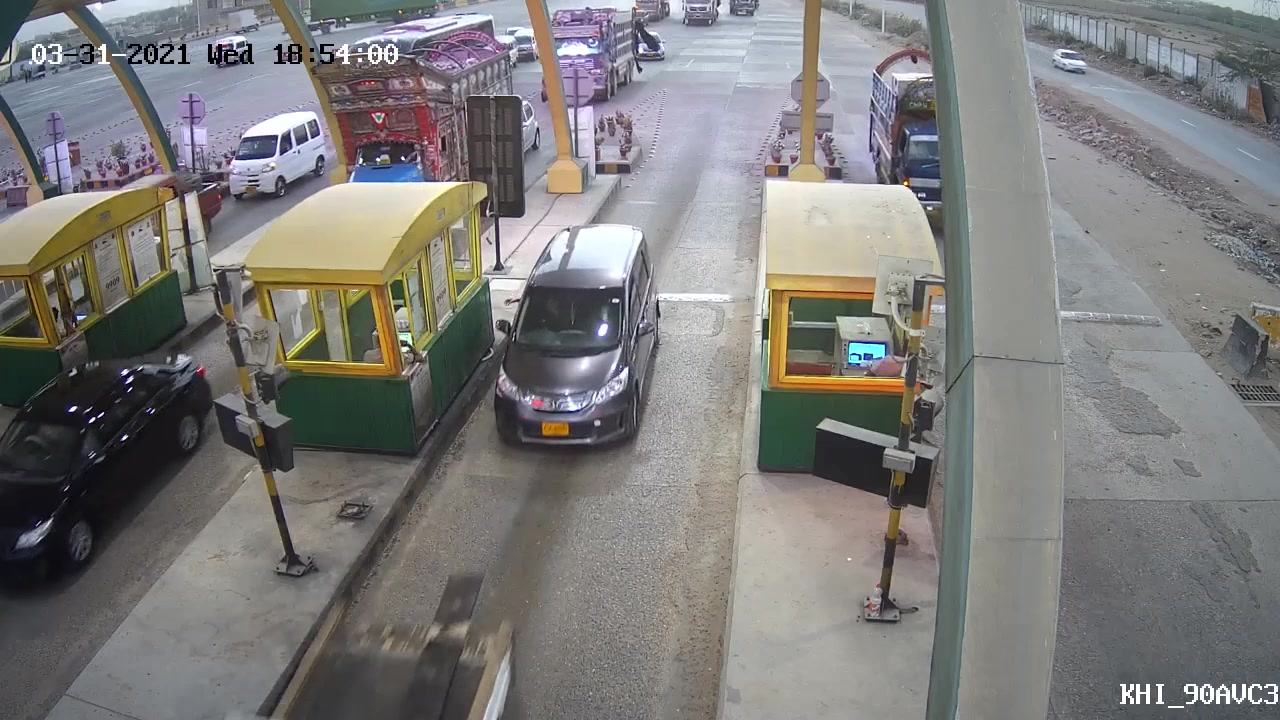F1: (484, 216, 660, 469)
